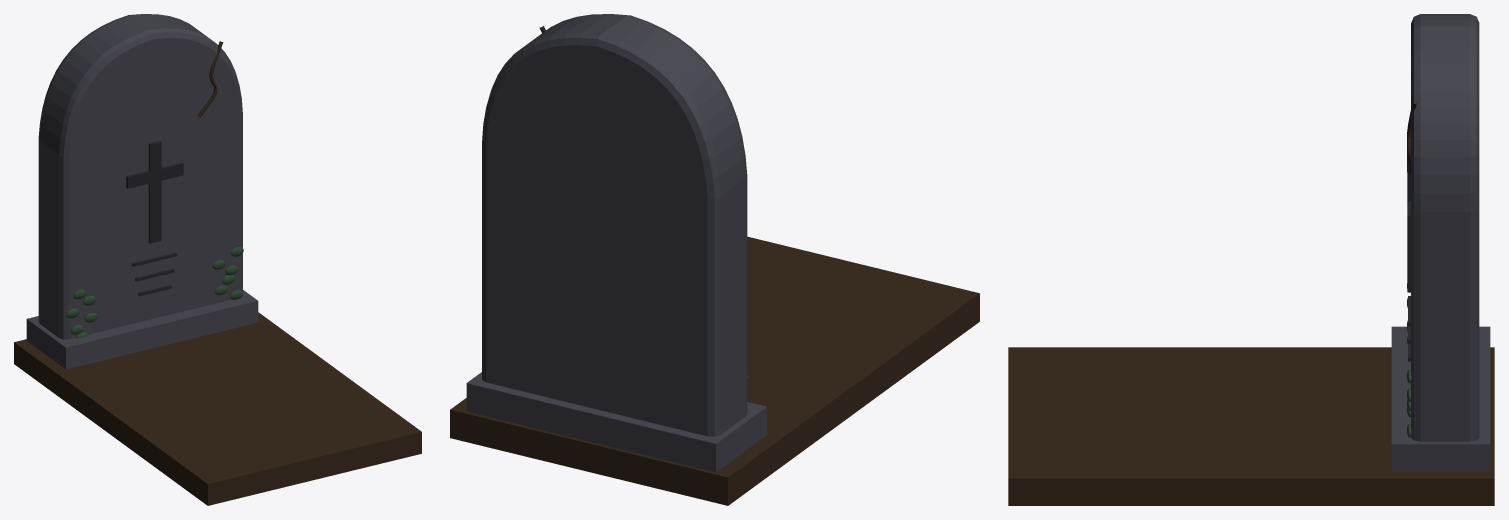
Rendered from mia-tombstone.glb.
3 renders of one model, left to right at view 1: azimuth 30°, elevation 25°; view 2: azimuth 150°, elevation 25°; view 3: azimuth 270°, elevation 25°, orthographic. The views are drawn at different scales.
Parts seen in each view (by area): view 1: Body_stone, Body_grain, Body_iron, Body_cactus-shadow; view 2: Body_stone, Body_grain; view 3: Body_grain, Body_stone, Body_iron.
Part boxes in pixels (box(x1,y1,x2,y2)): Body_stone: box(26, 14, 258, 369); Body_grain: box(14, 41, 421, 505); Body_iron: box(126, 141, 183, 296); Body_cactus-shadow: box(66, 247, 243, 338); Body_stone: box(466, 14, 767, 472); Body_grain: box(450, 26, 979, 505); Body_grain: box(1008, 102, 1494, 505); Body_stone: box(1391, 14, 1490, 471); Body_iron: box(1407, 173, 1410, 361).
Bounding box in the file's own units: 0.88 × 1.3 × 1.38.
